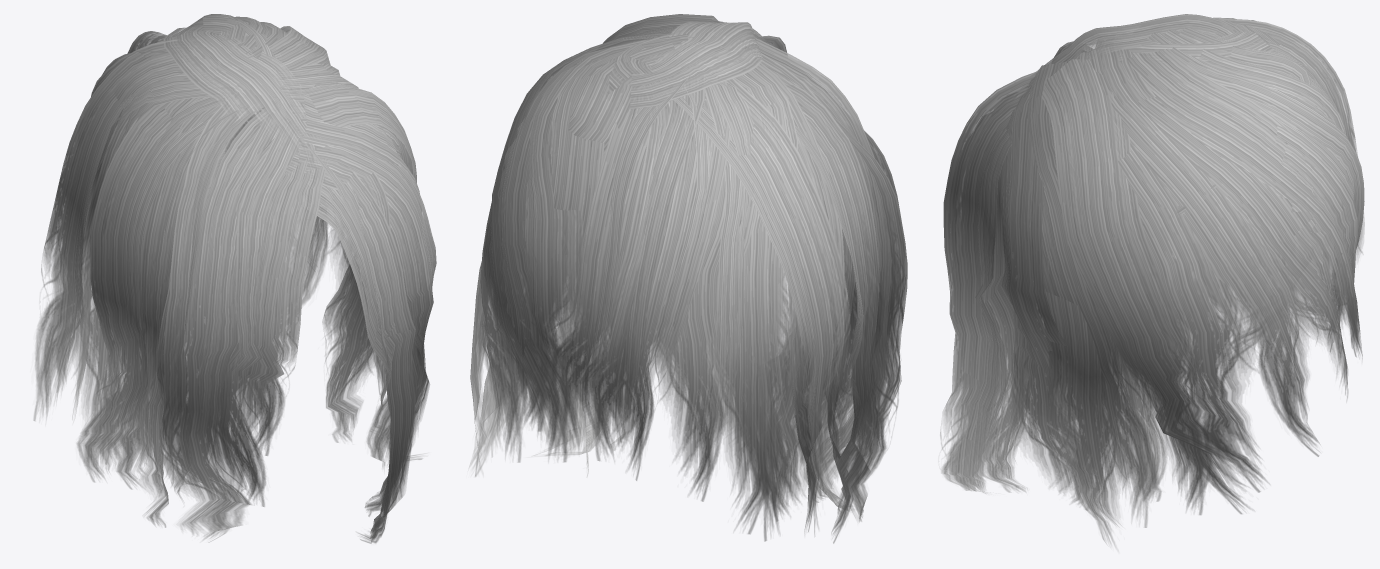
The model's file is daz_hair_french_lazy_roll.glb.
The picture shows the model from 3 angles, left to right: view 1: azimuth 30°, elevation 25°; view 2: azimuth 150°, elevation 25°; view 3: azimuth 270°, elevation 25°; orthographic projection. The views are drawn at different scales.
Visible parts, largest first — view 1: daz_hair_french_lazy_roll; view 2: daz_hair_french_lazy_roll; view 3: daz_hair_french_lazy_roll.
Boxes of the visible parts, x1=… form: daz_hair_french_lazy_roll: x1=33, y1=14, x2=436, y2=543; daz_hair_french_lazy_roll: x1=468, y1=14, x2=907, y2=543; daz_hair_french_lazy_roll: x1=938, y1=14, x2=1364, y2=551.
Bounding box in the file's own units: 0.2357 × 0.2929 × 0.252.
Materials: 1 (1 with a texture image).
